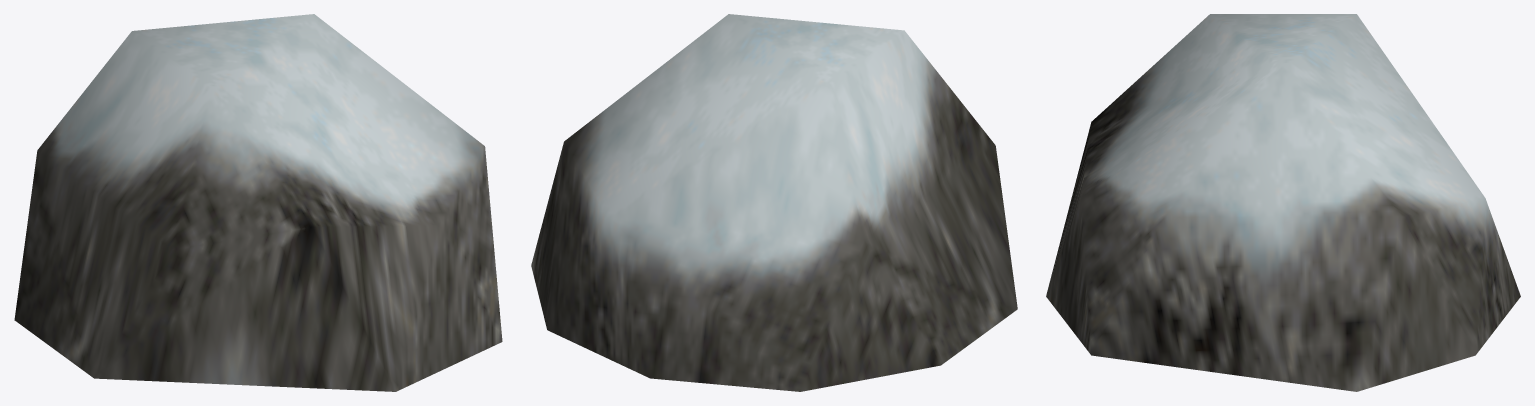
3 views of the same model, side by side, from view 1: azimuth 30°, elevation 25°; view 2: azimuth 150°, elevation 25°; view 3: azimuth 270°, elevation 25° (orthographic). The views are drawn at different scales.
Parts seen in each view (by area): view 1: a06; view 2: a06; view 3: a06.
Part boxes in pixels (x1=…): a06: x1=14, y1=14, x2=502, y2=391; a06: x1=531, y1=14, x2=1017, y2=391; a06: x1=1046, y1=14, x2=1520, y2=391.
Bounding box in the file's own units: 258 × 158 × 271.
